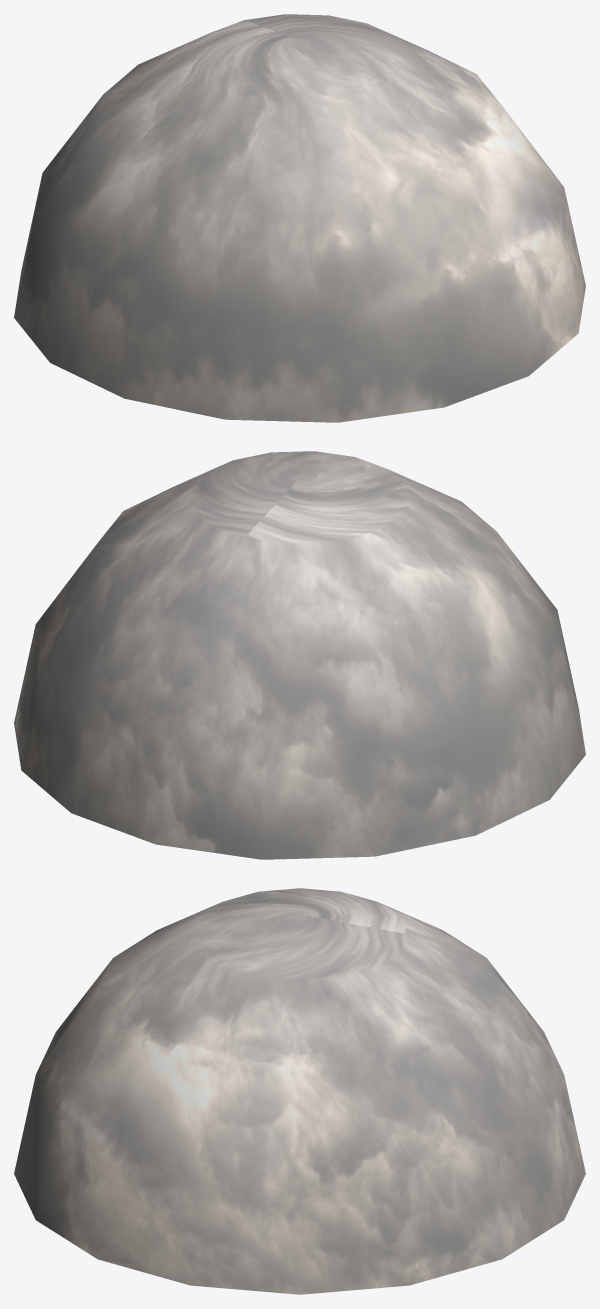
Rendered from COL3BF0101.FBX.
3 views of the same model, one above another, from view 1: azimuth 30°, elevation 25°; view 2: azimuth 150°, elevation 25°; view 3: azimuth 270°, elevation 25° (orthographic).
Parts seen in each view (by area): view 1: COL3BF01Sky; view 2: COL3BF01Sky; view 3: COL3BF01Sky.
Part boxes in pixels (bbox=[...]): COL3BF01Sky: bbox=[14, 14, 585, 422]; COL3BF01Sky: bbox=[14, 451, 585, 859]; COL3BF01Sky: bbox=[14, 888, 585, 1294].
Bounding box in the file's own units: 278275 × 145364 × 278275.
